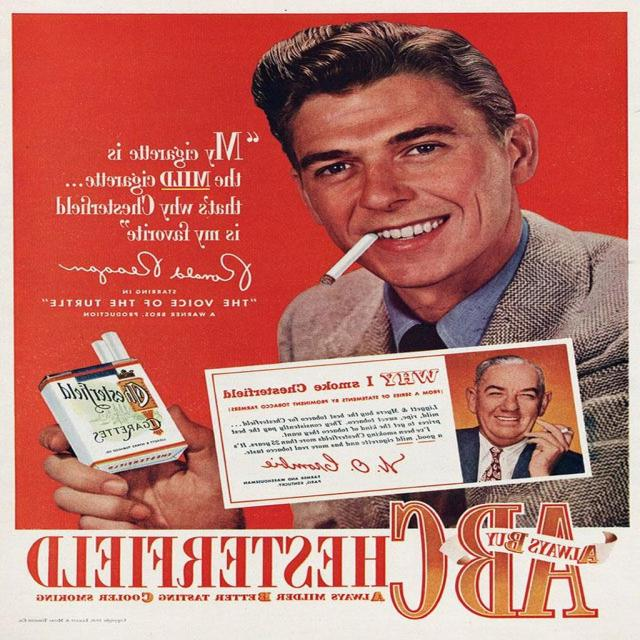smoking: (269, 24, 543, 298), (447, 361, 587, 467)
